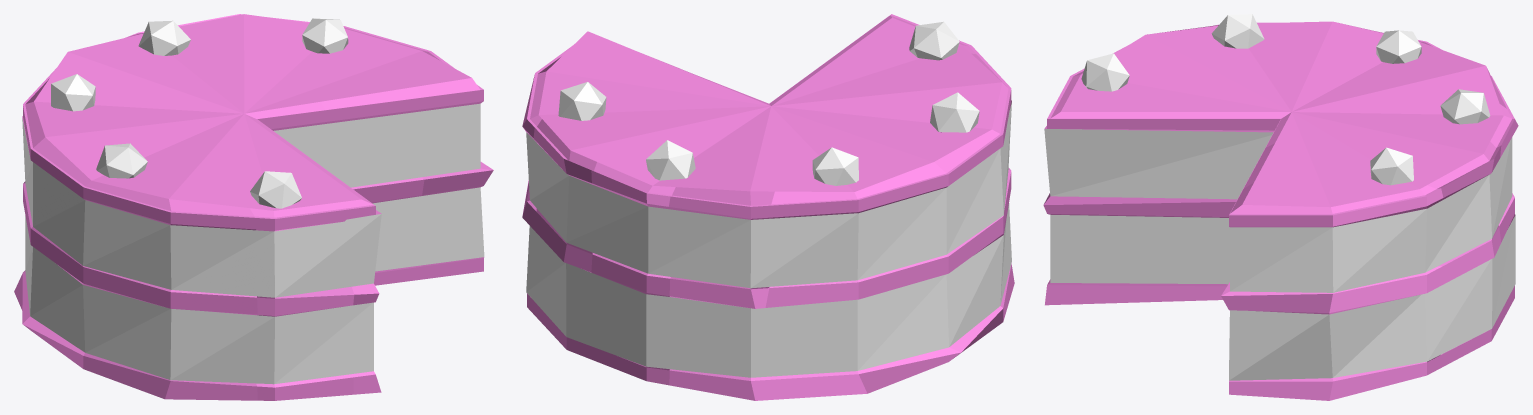
The model's file is cake_3_s.fbx.
3 renders of one model, left to right at view 1: azimuth 30°, elevation 25°; view 2: azimuth 150°, elevation 25°; view 3: azimuth 270°, elevation 25°, orthographic. The views are drawn at different scales.
Parts seen in each view (by area): view 1: Cylinder.007, Cylinder, Cylinder.004, Cylinder.001, Cylinder.006; view 2: Cylinder.007, Cylinder, Cylinder.001, Cylinder.004, Cylinder.006; view 3: Cylinder.001, Cylinder.006, Cylinder.004, Cylinder, Cylinder.007.
Part boxes in pixels (left/top/right/bottom): Cylinder.007: left=14, top=64, right=257, bottom=400; Cylinder: left=55, top=37, right=354, bottom=400; Cylinder.004: left=206, top=14, right=424, bottom=285; Cylinder.001: left=125, top=20, right=381, bottom=394; Cylinder.006: left=343, top=26, right=493, bottom=279; Cylinder.007: left=765, top=53, right=1014, bottom=400; Cylinder: left=668, top=21, right=978, bottom=400; Cylinder.001: left=591, top=14, right=909, bottom=385; Cylinder.004: left=533, top=49, right=714, bottom=359; Cylinder.006: left=522, top=31, right=632, bottom=315; Cylinder.001: left=1043, top=89, right=1518, bottom=326; Cylinder.006: left=1221, top=182, right=1444, bottom=400; Cylinder.004: left=1243, top=141, right=1501, bottom=368; Cylinder: left=1052, top=53, right=1509, bottom=108; Cylinder.007: left=1082, top=14, right=1469, bottom=69.
Bounding box in the file's own units: 206 × 103 × 206.
